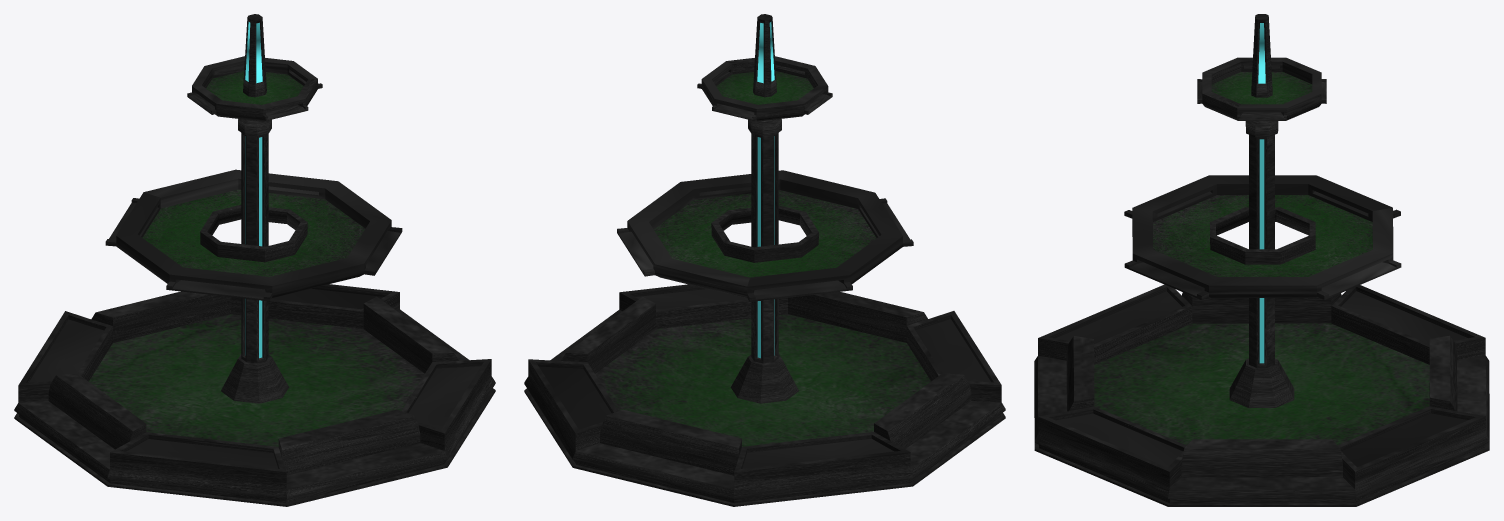
Rendered from Fontaine.fbx.
3 renders of one model, left to right at view 1: azimuth 30°, elevation 25°; view 2: azimuth 150°, elevation 25°; view 3: azimuth 270°, elevation 25°, orthographic.
Visible parts, largest first — view 1: Cylinder; view 2: Cylinder; view 3: Cylinder.
Boxes of the visible parts, left/top/right/bottom form: Cylinder: left=14, top=14, right=495, bottom=506; Cylinder: left=524, top=14, right=1005, bottom=506; Cylinder: left=1034, top=14, right=1489, bottom=506.
Size of the model in its own units: 1207 by 1152 by 1207.
